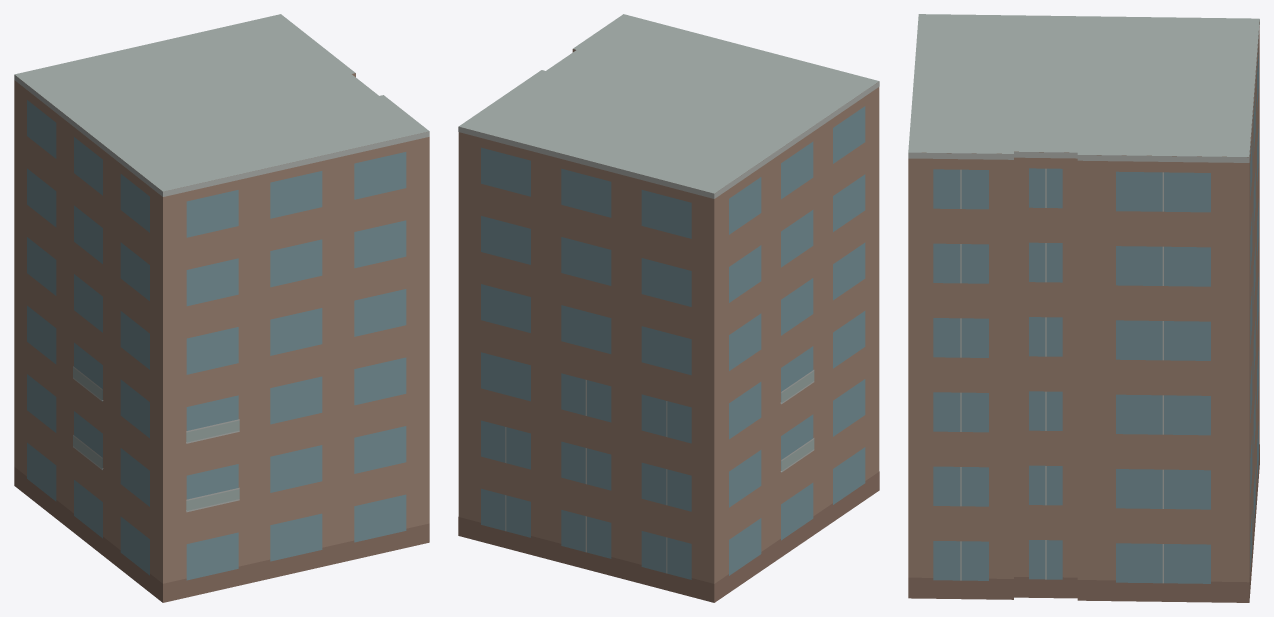
File: survey-upis-32663197.glb
The picture shows the model from 3 angles, left to right: view 1: azimuth 30°, elevation 25°; view 2: azimuth 150°, elevation 25°; view 3: azimuth 270°, elevation 25°; orthographic projection. The views are drawn at different scales.
Visible parts, largest first — view 1: survey-upis-32663197.tmp; view 2: survey-upis-32663197.tmp; view 3: survey-upis-32663197.tmp.
Boxes of the visible parts, x1=… form: survey-upis-32663197.tmp: x1=14, y1=14, x2=429, y2=602; survey-upis-32663197.tmp: x1=458, y1=14, x2=879, y2=602; survey-upis-32663197.tmp: x1=908, y1=14, x2=1259, y2=602.
Size of the model in its own units: 12.61 by 18.3 by 13.09.
